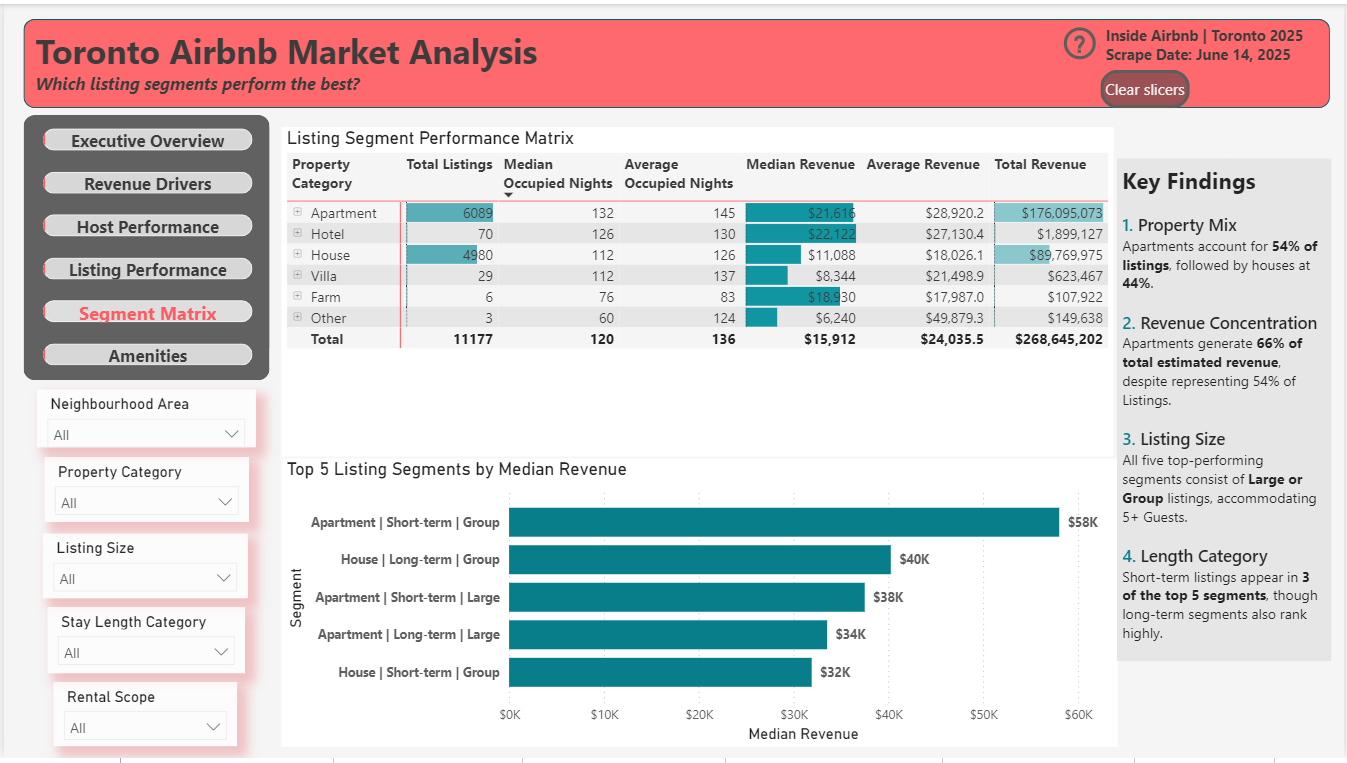

This screenshot's page, from the dashboard's own definition file:
{"tool":"powerbi","page":{"name":"Segment Matrix","canvas":[1280,720],"ordinal":4},"visuals":[{"type":"shape","box":[18.3,106.7,235,253.3],"z":0},{"type":"shape","box":[18.2,14.2,1247.6,85.1],"z":1000},{"type":"textbox","box":[10,16.7,531.7,90],"z":2000},{"type":"textbox","box":[1047.5,14.6,218,47.2],"z":3000},{"type":"pageNavigator","box":[36.7,118.3,200,231],"z":4000},{"type":"actionButton","box":[1047.1,62.8,85.1,36.5],"z":5000},{"type":"slicer","fields":{"Values":["dim_neighbourhoods.Neighbourhood Area Hierarchy.Neighbourhood Area","dim_neighbourhoods.Neighbourhood Area Hierarchy.Neighbourhood Name"]},"box":[31.1,368.3,208.3,55],"z":6000},{"type":"slicer","fields":{"Values":["dim_classifications.Property Category"]},"box":[38.3,432.8,195,61.7],"z":7000},{"type":"slicer","fields":{"Values":["dim_classifications.Accommodation Size"]},"box":[37.8,505,195,61.7],"z":8000},{"type":"slicer","fields":{"Values":["dim_classifications.Stay Length Category"]},"box":[41.7,576.1,188.3,63.3],"z":9000},{"type":"slicer","fields":{"Values":["dim_classifications.Rental Scope"]},"box":[46.7,647.8,175,61],"z":10000},{"type":"pivotTable","title":"Listing Segment Performance Matrix","fields":{"Rows":["dim_classifications.Property Category","dim_classifications.Stay Length Category","dim_classifications.Accommodation Size"],"Values":["Measures List.Total Listings","Measures List.Median Occupancy","Measures List.Average Occupancy","Measures List.Median Revenue","Measures List.Average Revenue","Measures List.Total Revenue"]},"box":[264.4,117.9,794.9,314.9],"z":11000},{"type":"clusteredBarChart","title":"Top 5 Listing Segments by Median Revenue","fields":{"Y":["Measures List.Median Revenue (min 10 listing count)"],"Category":["dim_classifications.Segment"]},"box":[265,433.3,798.3,275],"z":12000},{"type":"textbox","title":"Key Findings 2","box":[1062.1,148,204.9,479.8],"z":13000},{"type":"actionButton","box":[1007.2,17.9,40.7,40.7],"z":14000}]}

Visuals, with their boxes in screenshot pixels (x1, y1, x2, y2), scaled from the page's 1280x720 canvas onto the 1347x763 screenshot:
shape: <region>19, 113, 267, 382</region>
shape: <region>19, 15, 1332, 105</region>
textbox: <region>11, 18, 570, 113</region>
textbox: <region>1102, 15, 1332, 65</region>
pageNavigator: <region>39, 125, 249, 370</region>
actionButton: <region>1102, 67, 1191, 105</region>
slicer - dim_neighbourhoods.Neighbourhood Area Hierarchy.Neighbourhood Area x dim_neighbourhoods.Neighbourhood Area Hierarchy.Neighbourhood Name: <region>33, 390, 252, 449</region>
slicer - dim_classifications.Property Category: <region>40, 459, 246, 524</region>
slicer - dim_classifications.Accommodation Size: <region>40, 535, 245, 601</region>
slicer - dim_classifications.Stay Length Category: <region>44, 611, 242, 678</region>
slicer - dim_classifications.Rental Scope: <region>49, 686, 233, 751</region>
"Listing Segment Performance Matrix" pivotTable: <region>278, 125, 1115, 459</region>
"Top 5 Listing Segments by Median Revenue" clusteredBarChart: <region>279, 459, 1119, 751</region>
"Key Findings 2" textbox: <region>1118, 157, 1333, 665</region>
actionButton: <region>1060, 19, 1103, 62</region>
